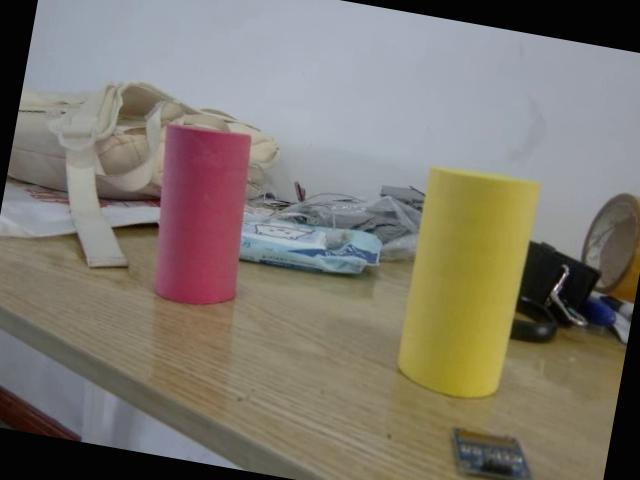red_cylinder: (386, 161, 545, 407), (133, 115, 270, 316)
